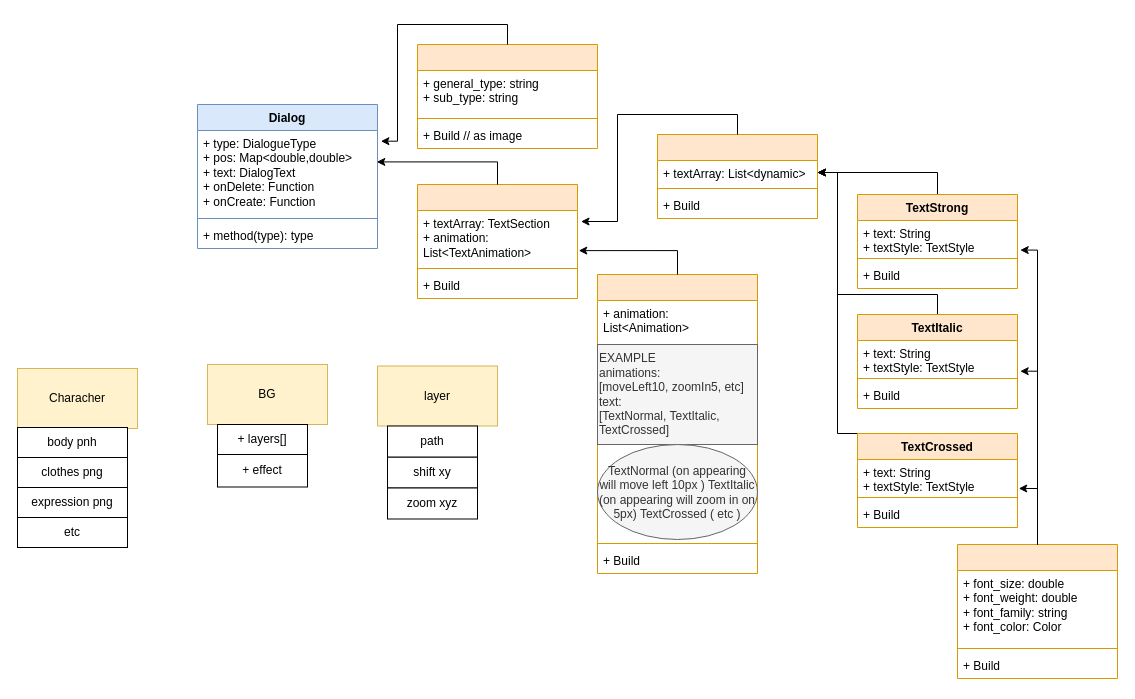
The diagram is 1135 pixels wide and 699 high, and some of its shapes have lost their labels. The shapes that lost their labels are listed below. From the top down, each one's box as (x1, y1, x2, y2) in pixels, then its label:
(416, 44, 598, 148): DialogType
(656, 134, 818, 218): TextSection
(416, 184, 578, 298): DialogText
(596, 274, 758, 574): TextAnimation
(956, 544, 1118, 678): TextStyle
